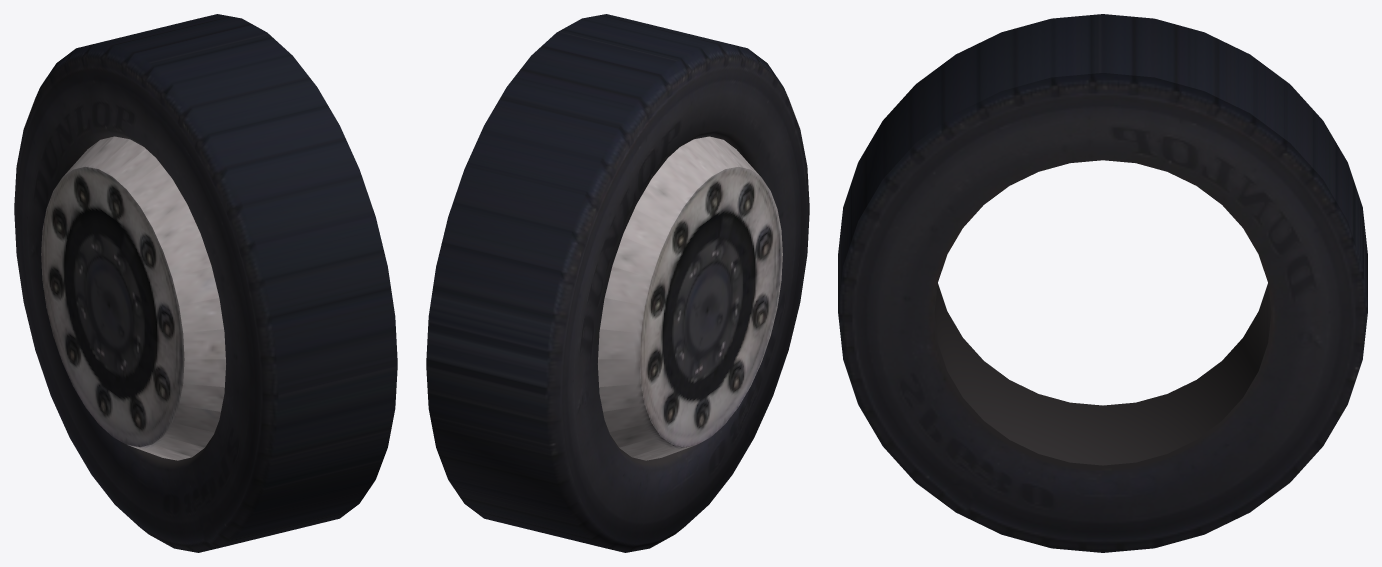
The model's file is WheelFL.glb.
The picture shows the model from 3 angles, left to right: view 1: azimuth 30°, elevation 25°; view 2: azimuth 150°, elevation 25°; view 3: azimuth 270°, elevation 25°; orthographic projection.
Parts seen in each view (by area): view 1: tire; view 2: tire; view 3: tire.
Boxes of the visible parts, x1,y1,x2,y2 form: tire: (14,14,397,552); tire: (426,14,809,552); tire: (838,14,1367,552).
Size of the model in its own units: 0.3253 by 0.9513 by 0.9513.
2 materials, 2 textured.
